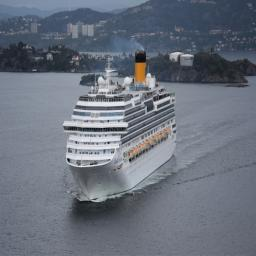cruises: (63, 51, 180, 204)
